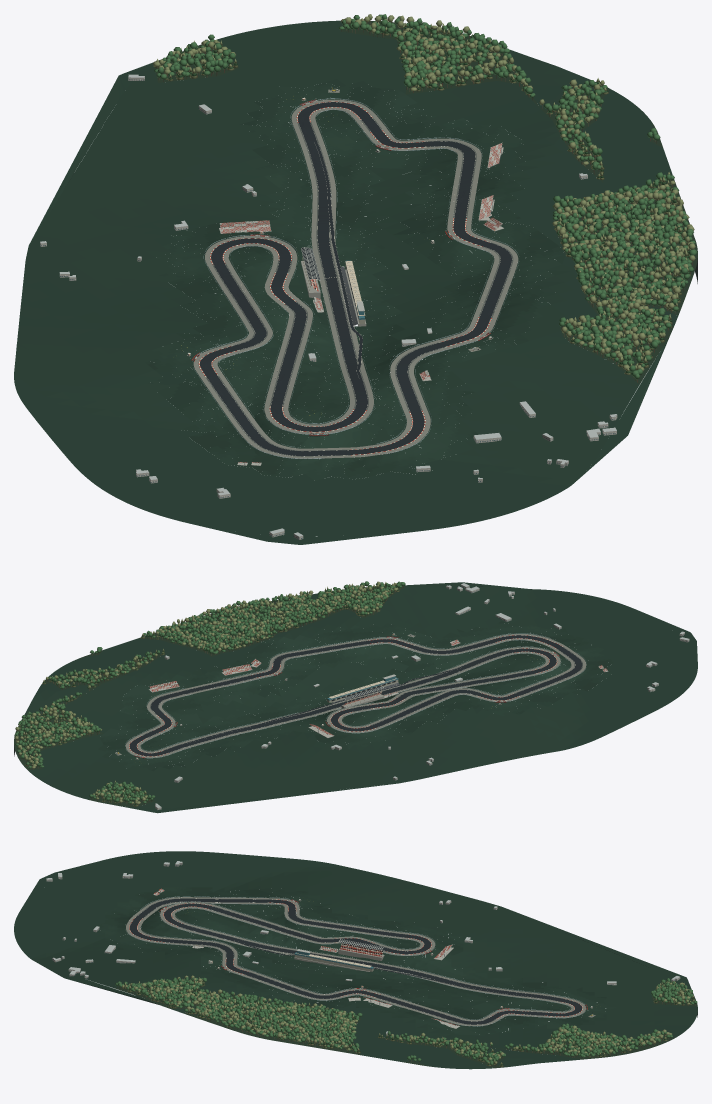
Rendered from Mugello.glb.
3 views of the same model, one above another, from view 1: azimuth 30°, elevation 25°; view 2: azimuth 150°, elevation 25°; view 3: azimuth 270°, elevation 25° (orthographic). The views are drawn at different scales.
Parts seen in each view (by area): view 1: terrain/ground, terrain-ground-finish-1, scenery/leaves, terrain-ground-finish-2, terrain-ground-finish-3, road/asphalt, scenery/leavesLight, runoff/gravel, terrain-ground-finish-0, terrain-ground-finish-4, terrain-woodland/forestFloor, terrain-extension/land (+3 smaller); view 2: terrain/ground, scenery/leaves, terrain-ground-finish-1, terrain-ground-finish-2, terrain-ground-finish-3, road/asphalt, scenery/leavesLight, runoff/gravel, terrain-ground-finish-0, terrain-ground-finish-4, terrain-woodland/forestFloor, shoulder/runoff (+3 smaller); view 3: terrain/ground, scenery/leaves, terrain-ground-finish-1, terrain-ground-finish-2, terrain-ground-finish-3, road/asphalt, runoff/gravel, scenery/leavesLight, terrain-ground-finish-0, terrain-ground-finish-4, terrain-woodland/forestFloor, shoulder/runoff (+2 smaller).
Part boxes in pixels (x1,y1,x2,y2): terrain/ground: (14,20,678,536); terrain-ground-finish-1: (145,79,564,477); scenery/leaves: (154,14,697,379); terrain-ground-finish-2: (152,82,564,479); terrain-ground-finish-3: (152,86,561,480); road/asphalt: (200,102,512,456); scenery/leavesLight: (153,14,695,374); runoff/gravel: (193,99,518,458); terrain-ground-finish-0: (147,86,559,474); terrain-ground-finish-4: (170,92,561,475); terrain-woodland/forestFloor: (154,21,697,384); terrain-extension/land: (27,51,669,544); terrain/ground: (24,586,697,807); scenery/leaves: (14,581,405,805); terrain-ground-finish-1: (98,622,612,770); terrain-ground-finish-2: (99,623,610,769); terrain-ground-finish-3: (99,624,611,769); road/asphalt: (129,635,582,756); scenery/leavesLight: (14,581,399,806); runoff/gravel: (125,634,586,757); terrain-ground-finish-0: (102,621,610,771); terrain-ground-finish-4: (101,626,600,760); terrain-woodland/forestFloor: (14,586,405,807); shoulder/runoff: (129,635,582,756); terrain/ground: (14,851,697,1069); scenery/leaves: (115,977,697,1065); terrain-ground-finish-1: (94,887,606,1030); terrain-ground-finish-2: (98,887,609,1035); terrain-ground-finish-3: (100,887,617,1035); road/asphalt: (129,898,582,1024); runoff/gravel: (126,897,585,1025); scenery/leavesLight: (122,975,695,1066); terrain-ground-finish-0: (111,887,606,1026); terrain-ground-finish-4: (105,895,600,1035); terrain-woodland/forestFloor: (114,984,697,1068); shoulder/runoff: (129,898,582,1024).
Size of the model in its own units: 1621 by 89.81 by 2006.
